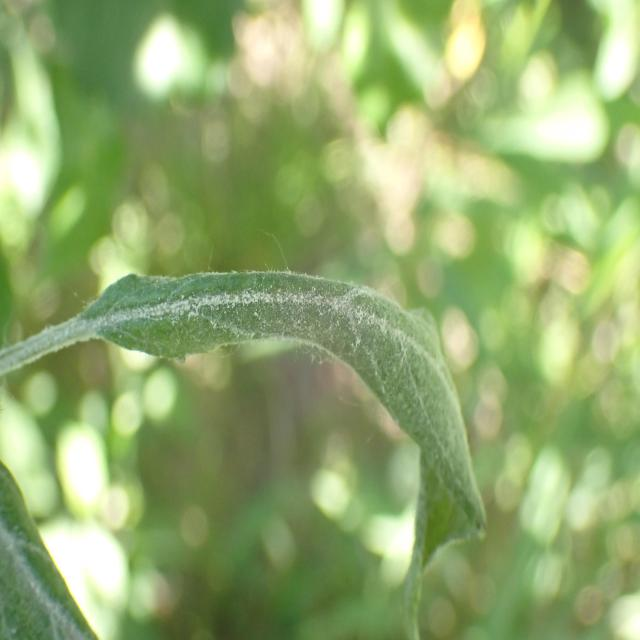Powdery_mildew: (29, 216, 487, 640)
